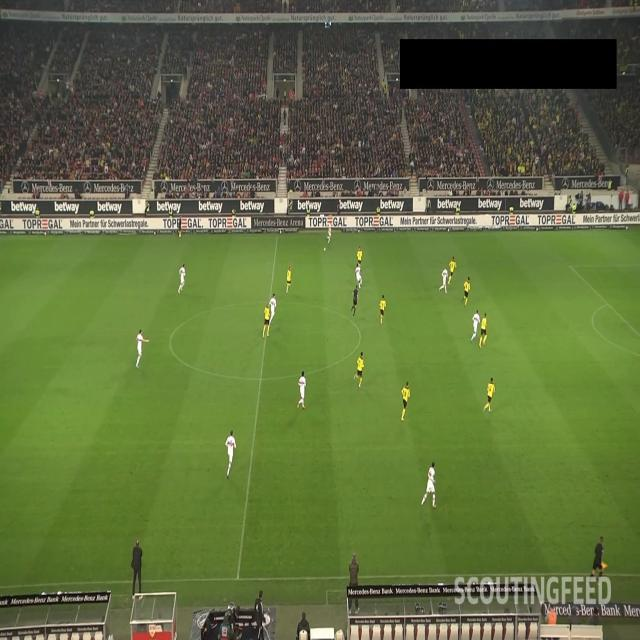ball: (324, 246, 326, 252)
